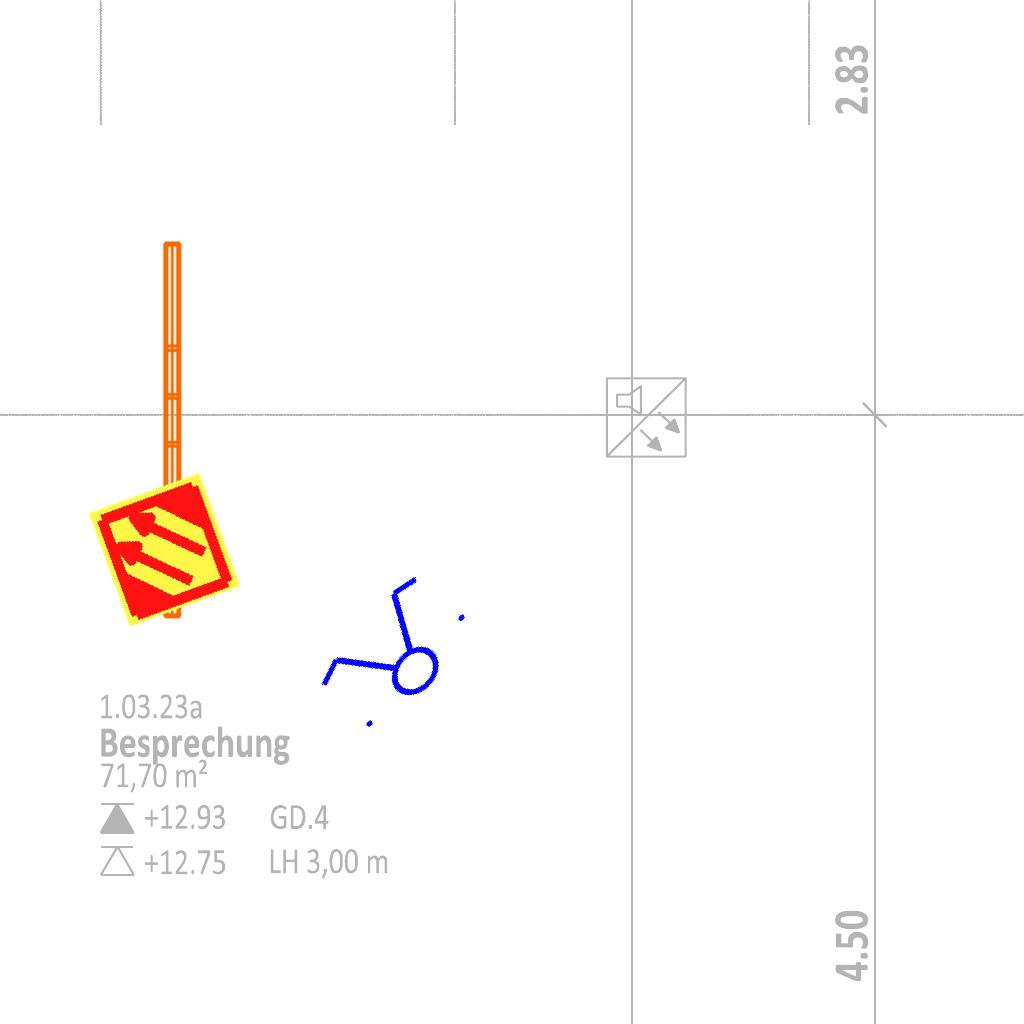ASR_Ansaugrauchmelder: (84, 469, 245, 630)
Ambulanz_Pendelleuchte_LED: (157, 236, 213, 623)
Serienschalter: (303, 560, 487, 750)
